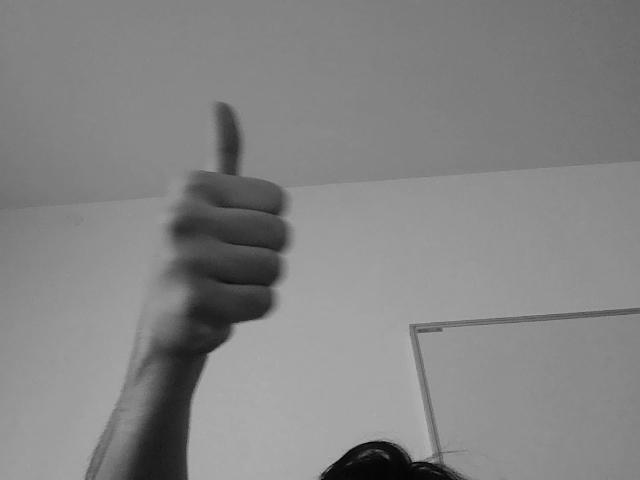good: (167, 114, 351, 378)
